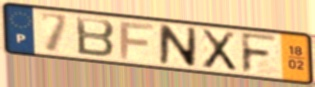7: (39, 11, 71, 54)
B: (74, 15, 117, 60)
F: (239, 31, 280, 76), (118, 20, 157, 61)
N: (158, 23, 199, 69)
X: (199, 27, 239, 73)
